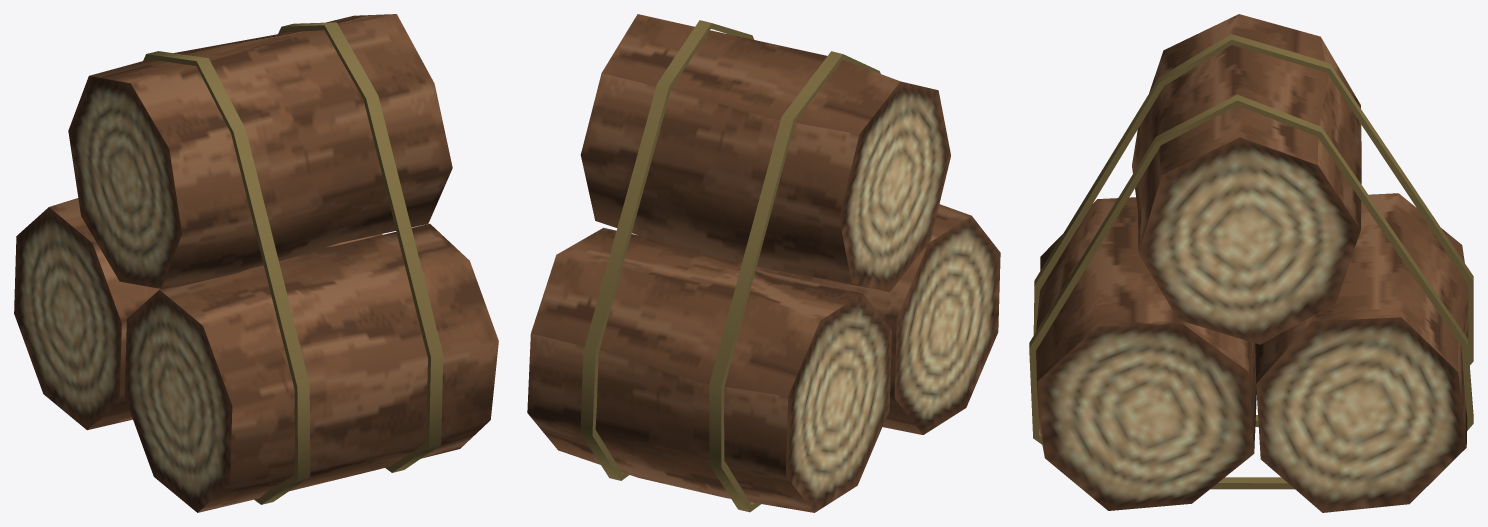
Rendered from igot3logs.fbx.
The picture shows the model from 3 angles, left to right: view 1: azimuth 30°, elevation 25°; view 2: azimuth 150°, elevation 25°; view 3: azimuth 270°, elevation 25°; orthographic projection. The views are drawn at different scales.
Visible parts, largest first — view 1: ThreeLogsStack; view 2: ThreeLogsStack; view 3: ThreeLogsStack.
Part boxes in pixels (x1,y1,x2,y2): ThreeLogsStack: (14, 14, 498, 512); ThreeLogsStack: (527, 14, 1000, 512); ThreeLogsStack: (1029, 14, 1473, 512).
Bounding box in the file's own units: 0.1797 × 0.2527 × 0.2617.
